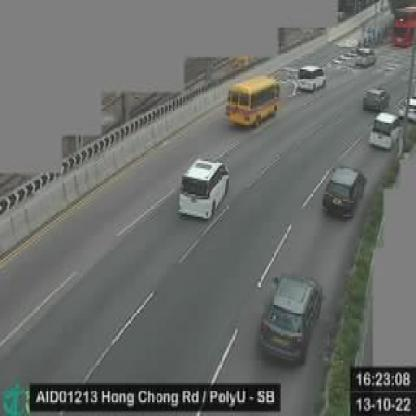Bus: (226, 76, 279, 129), (392, 7, 416, 47)
Car: (256, 272, 323, 368), (177, 158, 230, 220), (321, 166, 363, 219), (368, 112, 401, 151), (296, 63, 328, 93), (362, 86, 390, 112), (355, 44, 377, 66), (405, 95, 415, 122)
